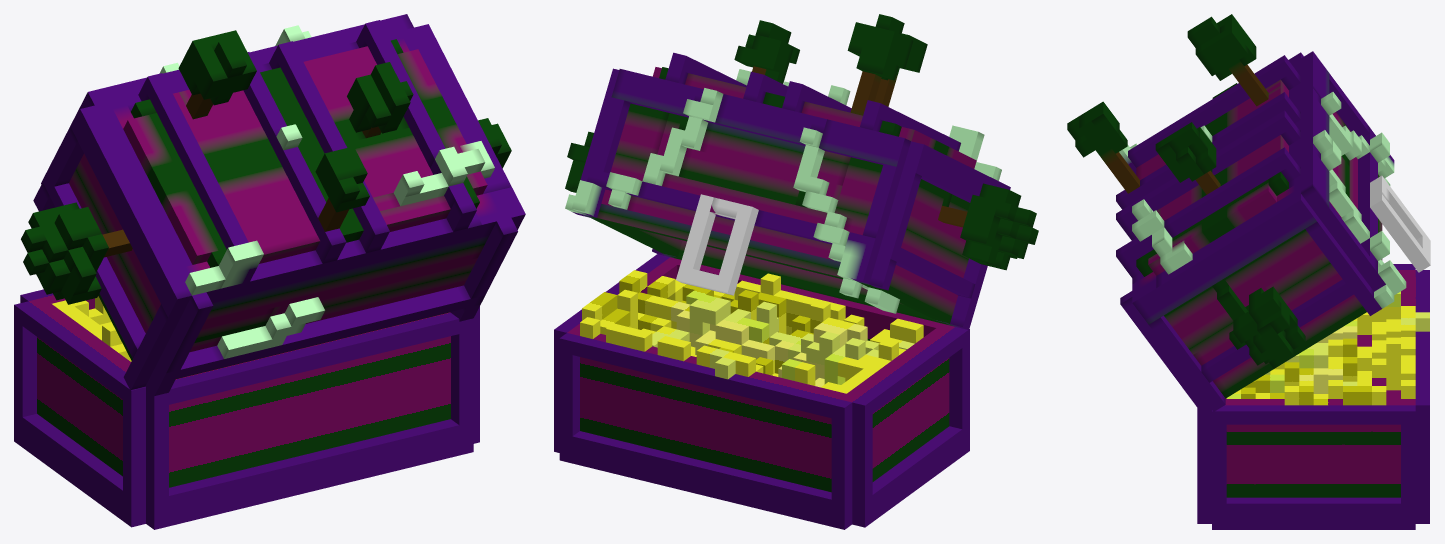
The model's file is cofre_fantasia.dae.
3 views of the same model, side by side, from view 1: azimuth 30°, elevation 25°; view 2: azimuth 150°, elevation 25°; view 3: azimuth 270°, elevation 25° (orthographic). The views are drawn at different scales.
Visible parts, largest first — view 1: Node (1)-local, Node-local; view 2: Node (1)-local, Node-local; view 3: Node (1)-local, Node-local.
Boxes of the visible parts, <box> form: Node (1)-local: <box>21,14,525,395</box>; Node-local: <box>14,289,479,529</box>; Node (1)-local: <box>565,14,1038,329</box>; Node-local: <box>554,254,969,529</box>; Node (1)-local: <box>1067,14,1430,411</box>; Node-local: <box>1197,264,1429,529</box>.
Size of the model in its own units: 34 by 30.58 by 25.01.
2 materials, 2 textured.
